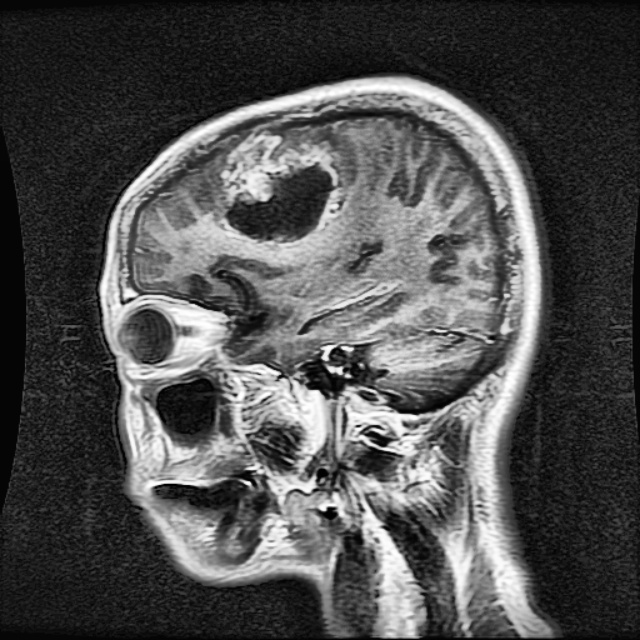Meningioma: (224, 135, 334, 242)
